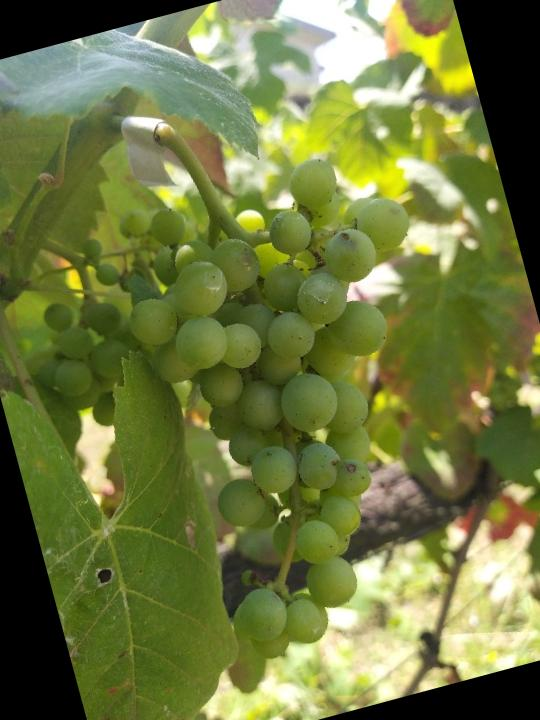grape: (99, 132, 519, 676)
